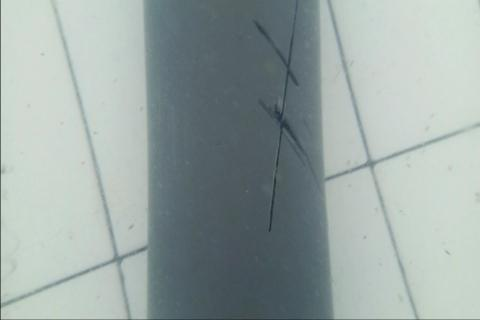keretakan: (251, 0, 320, 236)
